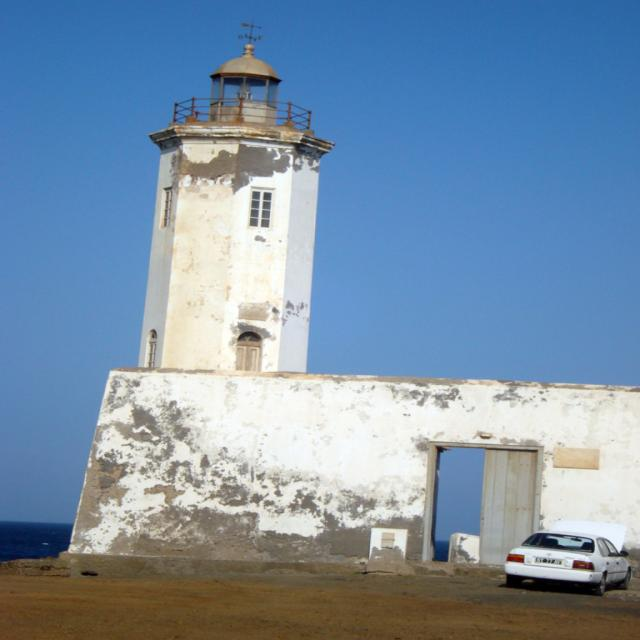car: (500, 532, 627, 593)
